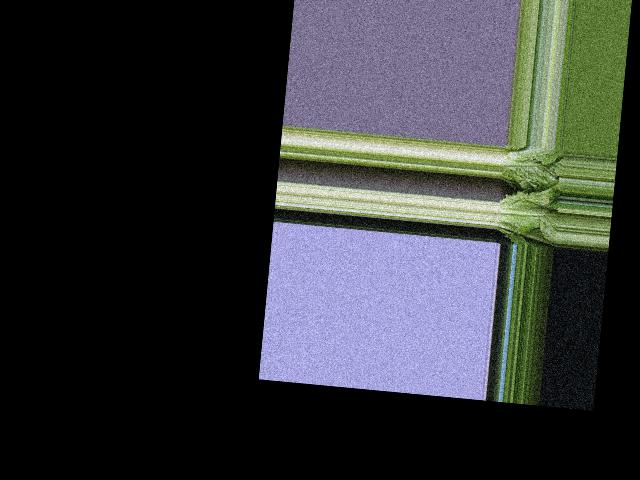lettuce: (499, 146, 561, 191)
